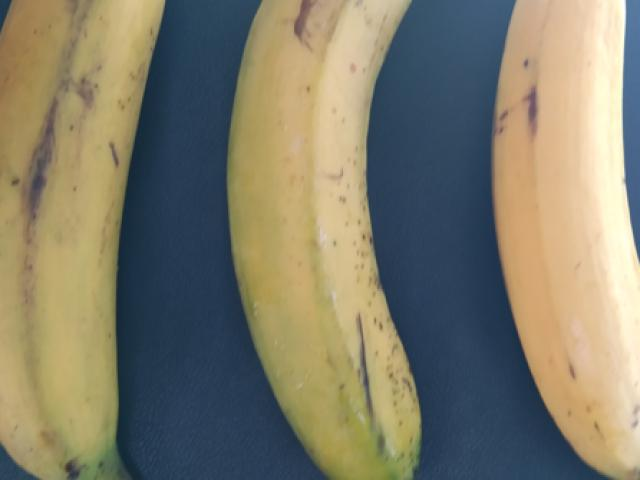freshripe: (482, 0, 639, 461)
ripe: (210, 0, 461, 470), (0, 0, 187, 474)
